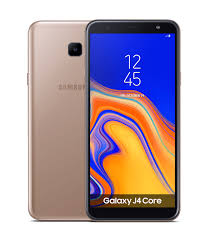samsung: (83, 16, 181, 225), (24, 16, 90, 222)
